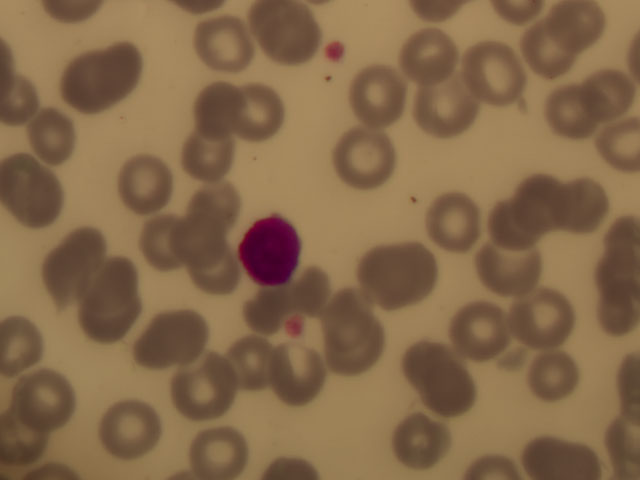Platelets: (283, 312, 307, 340), (323, 39, 350, 63)
RBC: (57, 52, 118, 114), (97, 38, 158, 100), (27, 102, 88, 164), (5, 160, 66, 222), (110, 156, 171, 218), (174, 127, 235, 189), (188, 83, 249, 145), (223, 85, 284, 147), (190, 12, 251, 74), (256, 7, 317, 69), (353, 62, 414, 124), (333, 124, 394, 186), (420, 71, 481, 133), (403, 28, 464, 90), (459, 45, 520, 107), (520, 23, 581, 85), (550, 2, 611, 64), (539, 75, 600, 137), (579, 54, 640, 116), (554, 172, 615, 234), (515, 169, 576, 231), (485, 191, 546, 253), (428, 184, 489, 246), (476, 231, 537, 293), (516, 285, 577, 347), (531, 341, 592, 403), (452, 301, 513, 363), (387, 328, 448, 390), (419, 364, 480, 426), (389, 408, 450, 470), (326, 321, 387, 383), (331, 278, 392, 340), (374, 244, 435, 306), (221, 332, 282, 394), (275, 355, 336, 417), (183, 360, 244, 422), (138, 314, 199, 376), (100, 391, 161, 453), (190, 418, 251, 480), (18, 368, 79, 430), (72, 299, 133, 361), (87, 257, 148, 319), (42, 236, 103, 298), (126, 216, 187, 278), (165, 218, 226, 280), (182, 240, 243, 302), (186, 176, 247, 238)
WBC: (237, 210, 310, 289)
